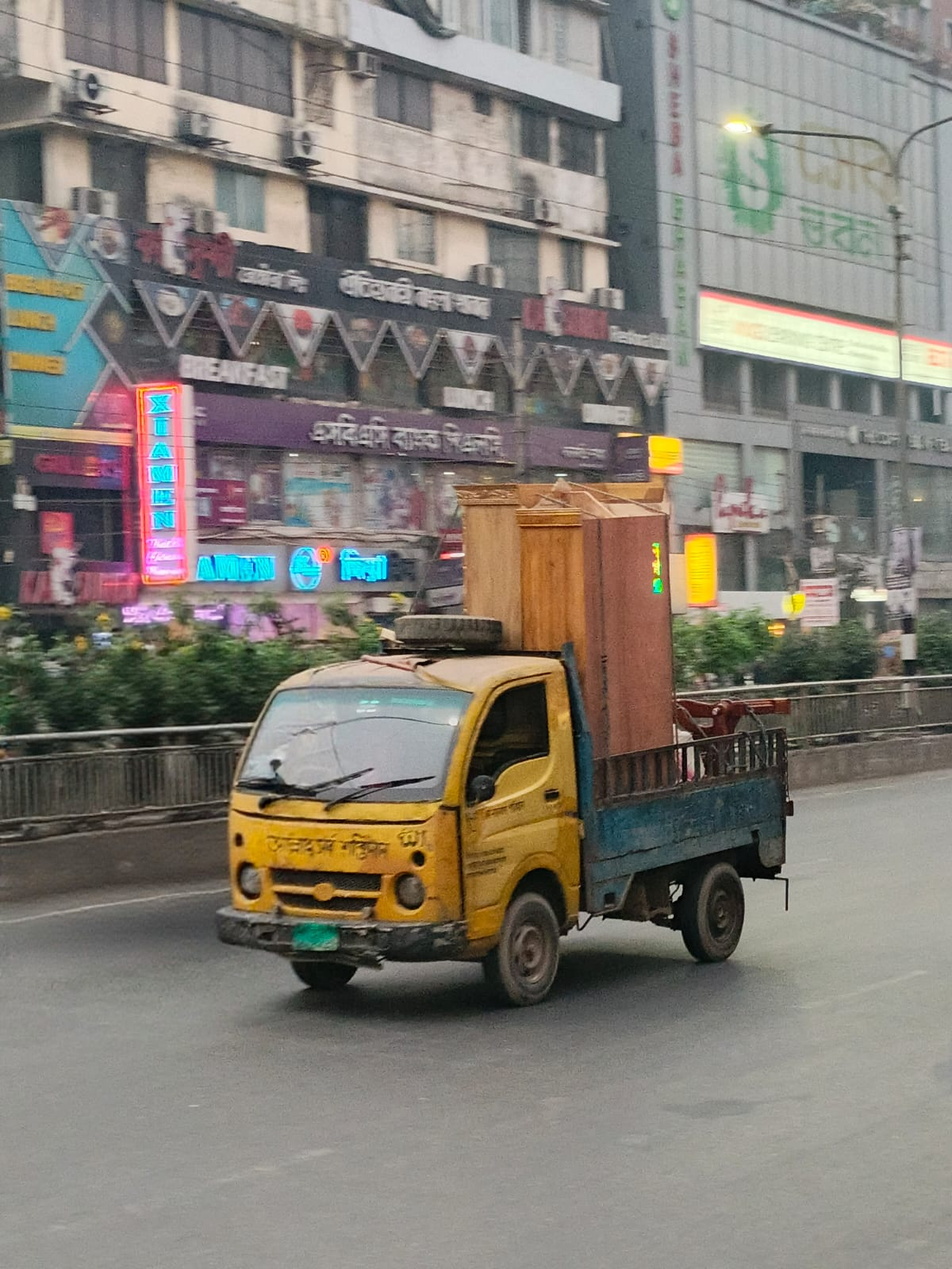Pickup: (219, 453, 878, 1063)
